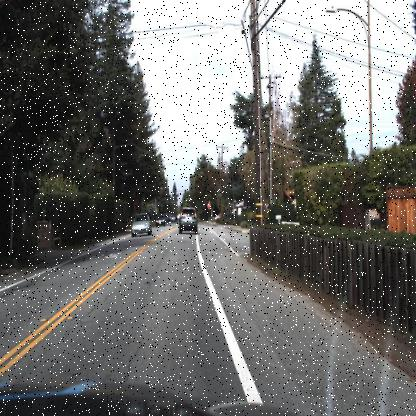car: (129, 208, 153, 240), (174, 202, 196, 235), (130, 211, 151, 237), (154, 210, 168, 232)
